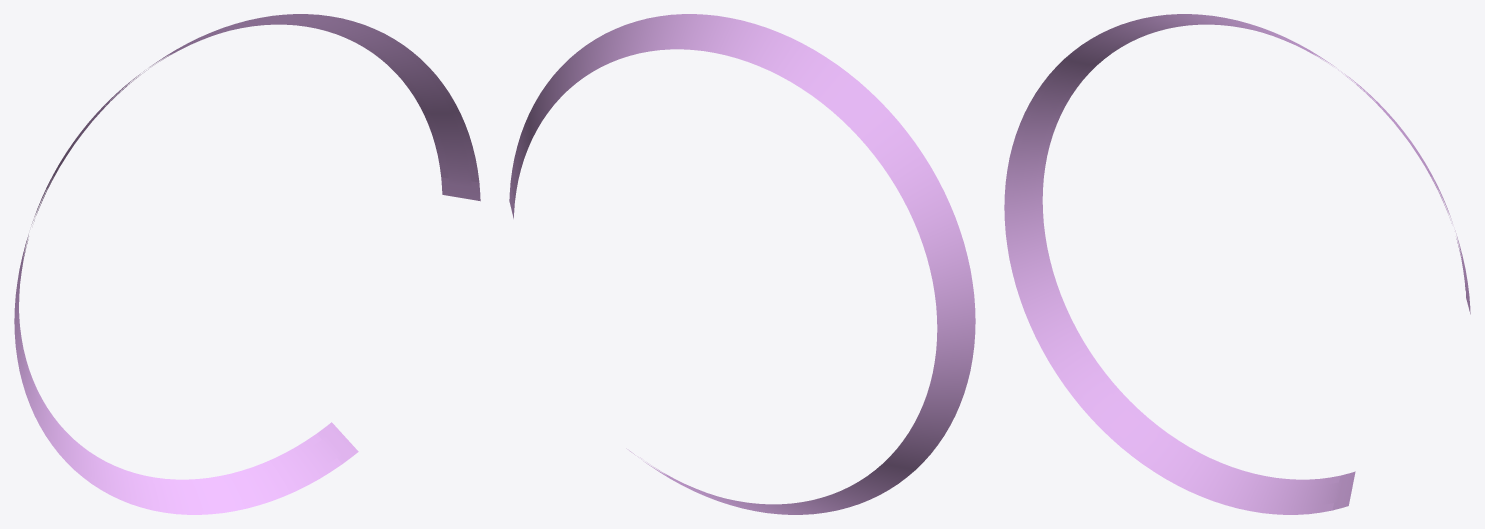
The model's file is Mesh_Note_50.fbx.
The picture shows the model from 3 angles, left to right: view 1: azimuth 30°, elevation 25°; view 2: azimuth 150°, elevation 25°; view 3: azimuth 330°, elevation 25°; orthographic projection.
Visible parts, largest first — view 1: Mesh_Note_50; view 2: Mesh_Note_50; view 3: Mesh_Note_50.
Boxes of the visible parts, <box> form: Mesh_Note_50: <box>14,14,480,514</box>; Mesh_Note_50: <box>509,14,975,514</box>; Mesh_Note_50: <box>1004,14,1470,514</box>.
Size of the model in its own units: 3.56 by 3.56 by 0.2235.
